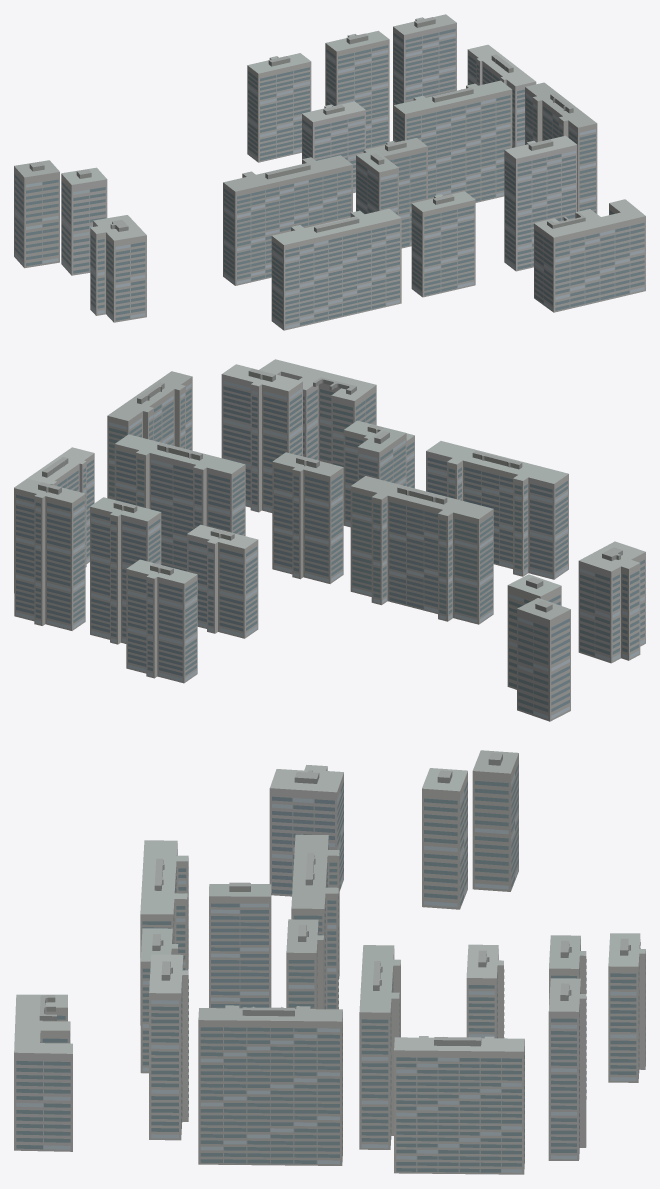
The model's file is apt-a15083603.glb.
3 renders of one model, top to bottom at view 1: azimuth 30°, elevation 25°; view 2: azimuth 150°, elevation 25°; view 3: azimuth 270°, elevation 25°, orthographic. The views are drawn at different scales.
Visible parts, largest first — view 1: apt-a15083603; view 2: apt-a15083603; view 3: apt-a15083603.
Part boxes in pixels (x1,y1,x2,y2): apt-a15083603: (14, 14, 645, 330); apt-a15083603: (14, 359, 645, 721); apt-a15083603: (14, 750, 645, 1174).
Size of the model in its own units: 275 by 65 by 240.
